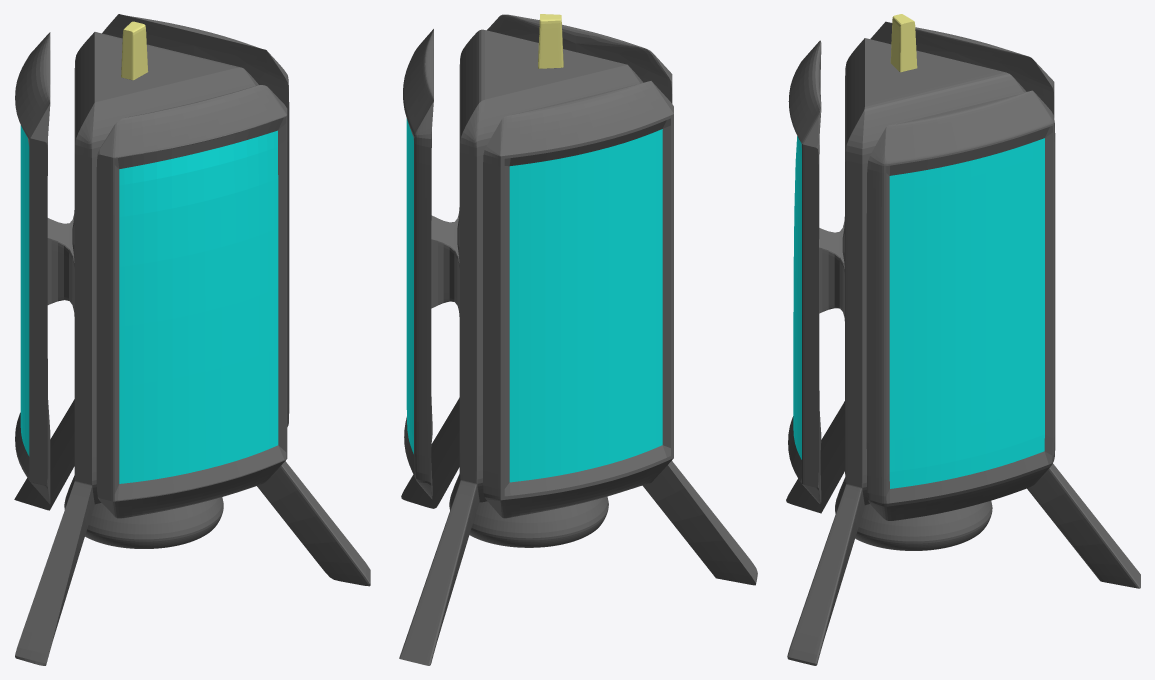
The model's file is charge.fbx.
The picture shows the model from 3 angles, left to right: view 1: azimuth 30°, elevation 25°; view 2: azimuth 150°, elevation 25°; view 3: azimuth 270°, elevation 25°; orthographic projection.
Parts seen in each view (by area): view 1: Body, SouthFace, North West Face, Head; view 2: Body, North West Face, NorthEast Face, Head; view 3: Body, NorthEast Face, SouthFace, Head.
Boxes of the visible parts, box(x1,y1,x2,y2) form: Body: box(14, 14, 370, 665); SouthFace: box(119, 130, 278, 483); North West Face: box(20, 125, 29, 456); Head: box(121, 21, 148, 80); Body: box(399, 14, 757, 665); North West Face: box(509, 129, 662, 482); NorthEast Face: box(406, 118, 413, 453); Head: box(538, 14, 563, 68); Body: box(786, 21, 1140, 665); NorthEast Face: box(889, 138, 1044, 488); SouthFace: box(793, 136, 801, 459); Head: box(890, 14, 917, 72).
Size of the model in its own units: 37.68 by 56.91 by 33.01.
